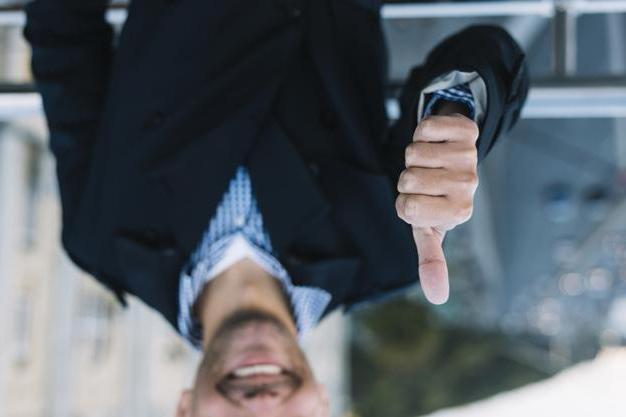thumbsdown: (395, 115, 479, 305)
